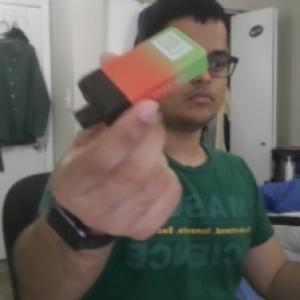Swift-E-Ciggirate: (68, 22, 209, 130)
